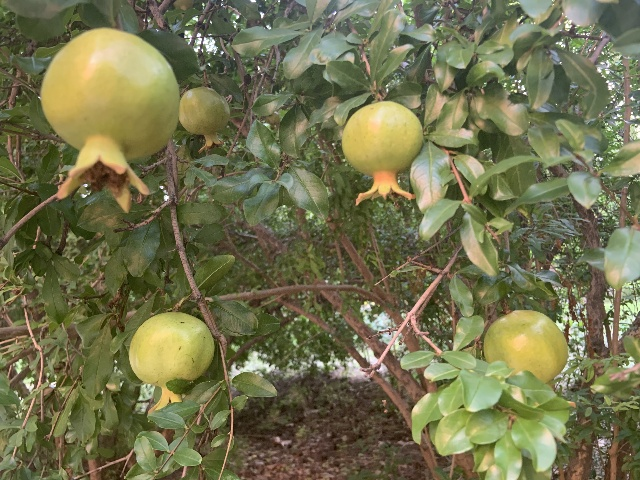mid-growth: (39, 27, 180, 213), (482, 310, 576, 407), (129, 311, 215, 413), (340, 100, 423, 205), (179, 86, 230, 153)
